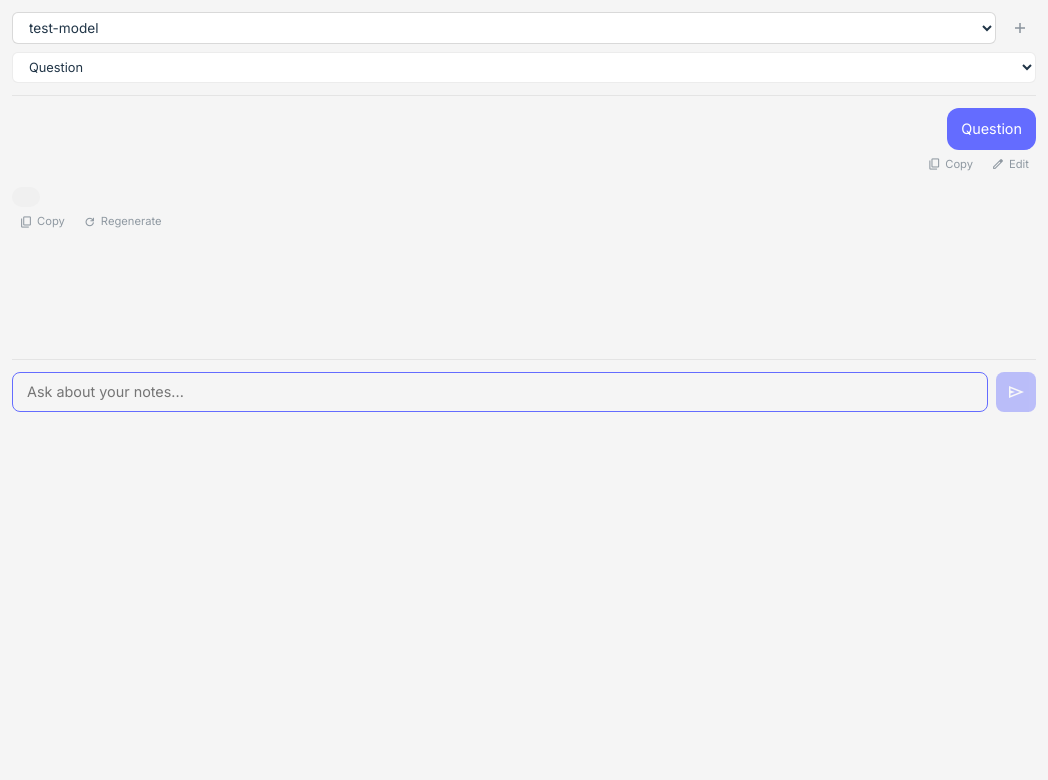
Test: App chat view › disables the composer while a delete confirmation is pending
This screenshot has width=1048, height=780.
Type "Delete note 1" into the text box with placeholder "Ask about your notes...".
click(500, 392); type("Delete note 1")  # box [12, 372, 988, 412]
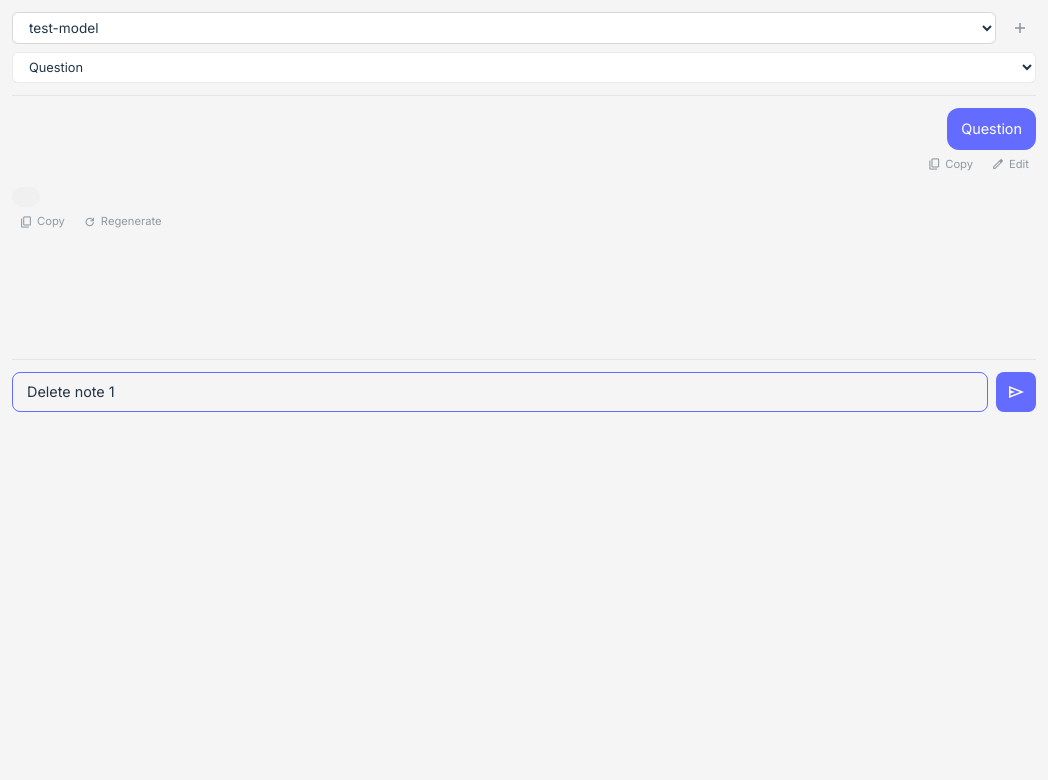
Click the button named "Send message".
click(1016, 392)  # box [996, 372, 1036, 412]
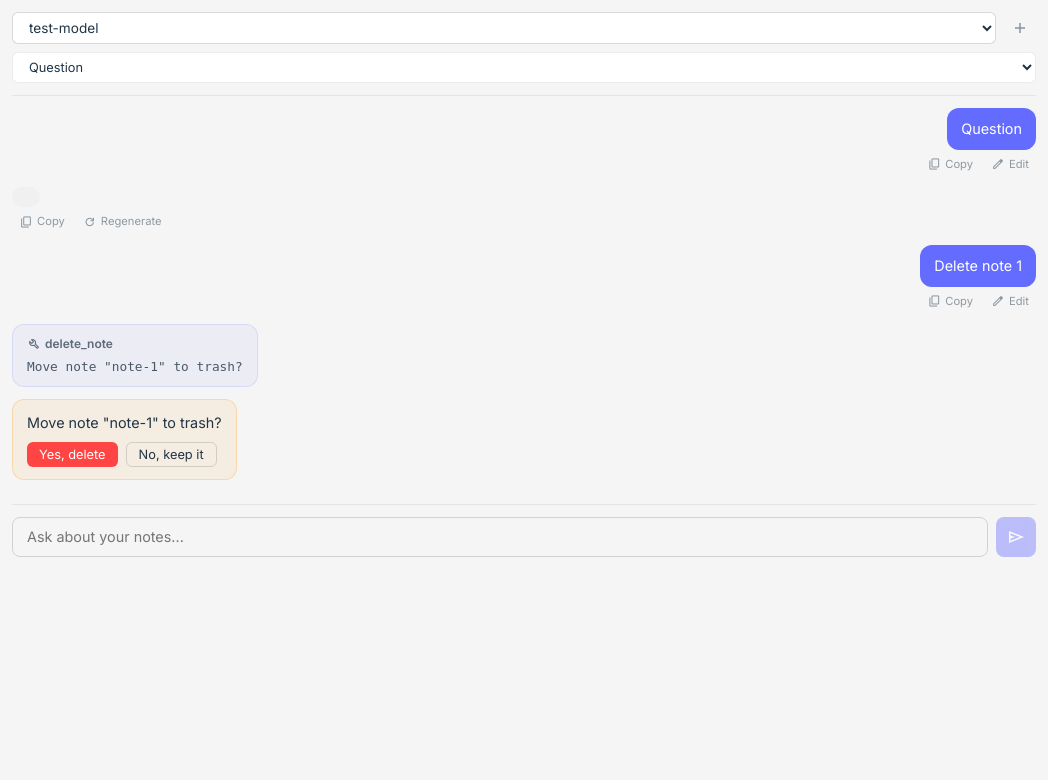
Check: the button "Yes, delete" is shown, box [27, 442, 118, 467]
Check: the text box with placeholder "Ask about your notes..." is disabled, box [12, 517, 988, 557]
Check: the button named "Send message" is disabled, box [996, 517, 1036, 557]
